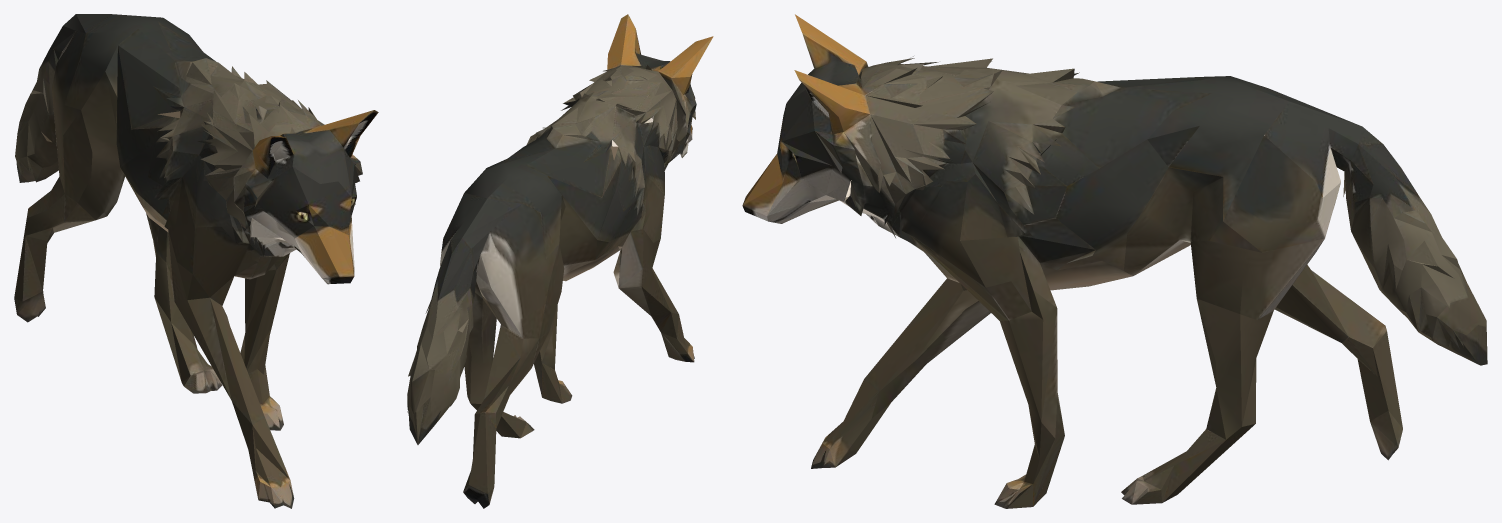
Rendered from world-wolf.glb.
The picture shows the model from 3 angles, left to right: view 1: azimuth 30°, elevation 25°; view 2: azimuth 150°, elevation 25°; view 3: azimuth 270°, elevation 25°; orthographic projection. The views are drawn at different scales.
Bounding box in the file's own units: 0.4586 × 1.23 × 1.89.
Materials: 1 (1 with a texture image).
